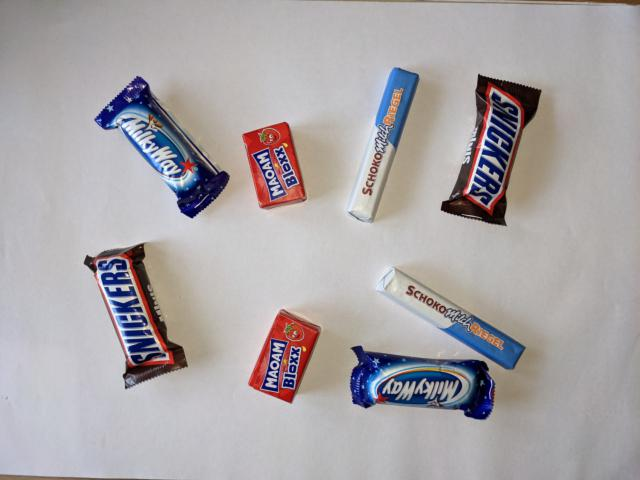MAOAM: (245, 307, 323, 406), (240, 120, 309, 213)
MilkyWay: (92, 74, 233, 221), (345, 343, 497, 422)
Schokoriegel: (370, 261, 527, 373), (340, 65, 424, 226)
Snickers: (437, 72, 544, 228), (82, 240, 191, 391)
